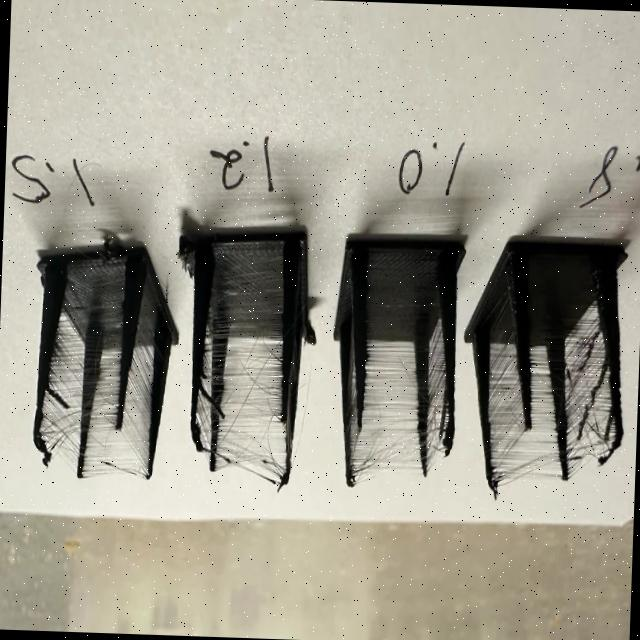stringing: (216, 336, 284, 486), (566, 300, 618, 483), (83, 338, 151, 475), (493, 347, 560, 483), (353, 340, 420, 468), (35, 310, 85, 474), (483, 283, 524, 476), (558, 298, 614, 437), (120, 287, 155, 473), (427, 314, 447, 469), (197, 324, 214, 464), (529, 347, 554, 431), (351, 335, 360, 468)
